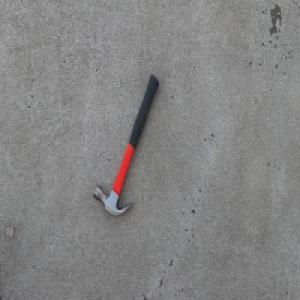Hammer: (92, 74, 159, 218)
